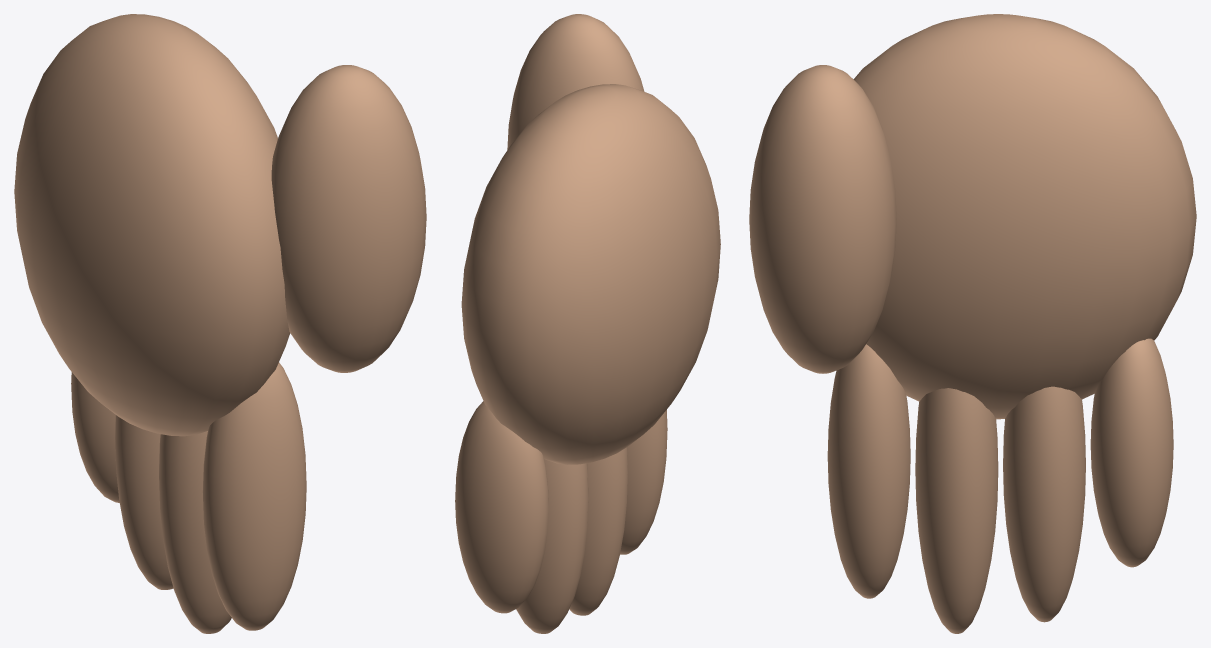
File: SM_Teacher_Hand.glb
3 renders of one model, left to right at view 1: azimuth 30°, elevation 25°; view 2: azimuth 150°, elevation 25°; view 3: azimuth 270°, elevation 25°, orthographic. The views are drawn at different scales.
Parts seen in each view (by area): view 1: SM_Teacher_Hand; view 2: SM_Teacher_Hand; view 3: SM_Teacher_Hand.
Boxes of the visible parts, x1,y1,x2,y2 form: SM_Teacher_Hand: (14,14,426,633); SM_Teacher_Hand: (455,14,720,633); SM_Teacher_Hand: (749,14,1196,633).
Bounding box in the file's own units: 0.069 × 0.1428 × 0.097.
